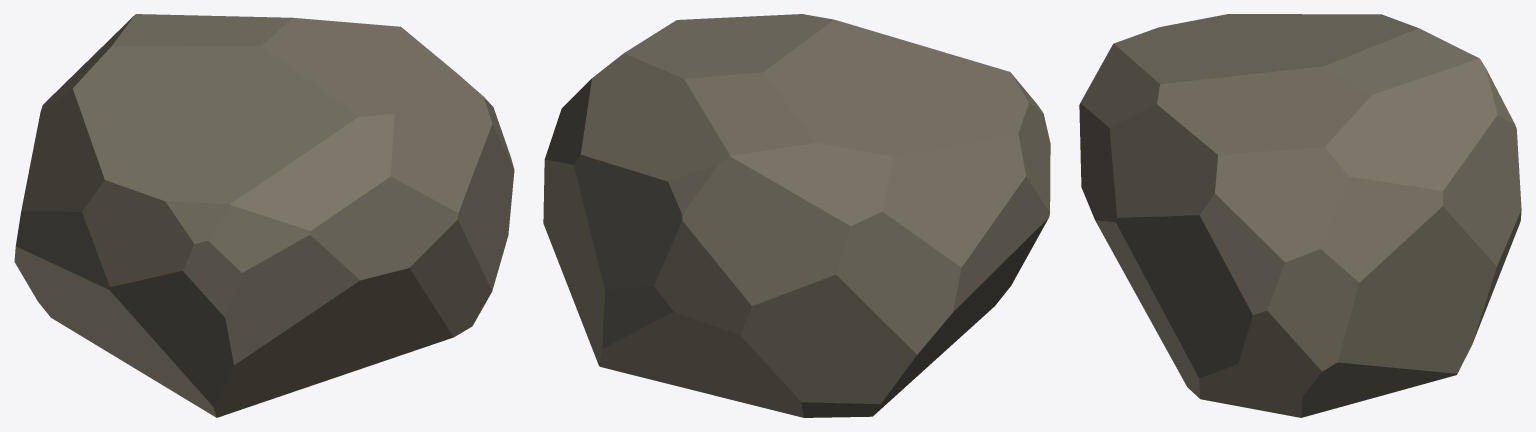
The model's file is garden-rock-7f5d60.glb.
The picture shows the model from 3 angles, left to right: view 1: azimuth 30°, elevation 25°; view 2: azimuth 150°, elevation 25°; view 3: azimuth 270°, elevation 25°; orthographic projection. The views are drawn at different scales.
Visible parts, largest first — view 1: rock; view 2: rock; view 3: rock.
Part boxes in pixels (x1,y1,x2,y2): rock: (14,14,514,417); rock: (543,14,1050,417); rock: (1079,14,1521,417).
Size of the model in its own units: 0.72 by 0.42 by 0.64.
